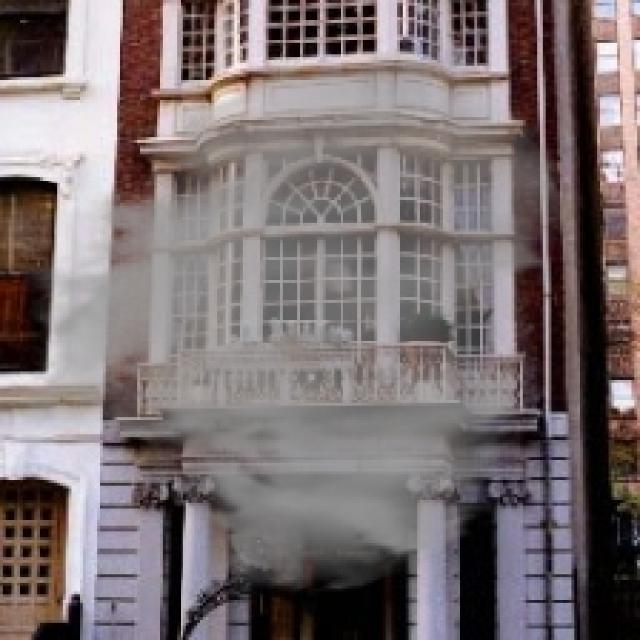smoke: (11, 40, 572, 597)
